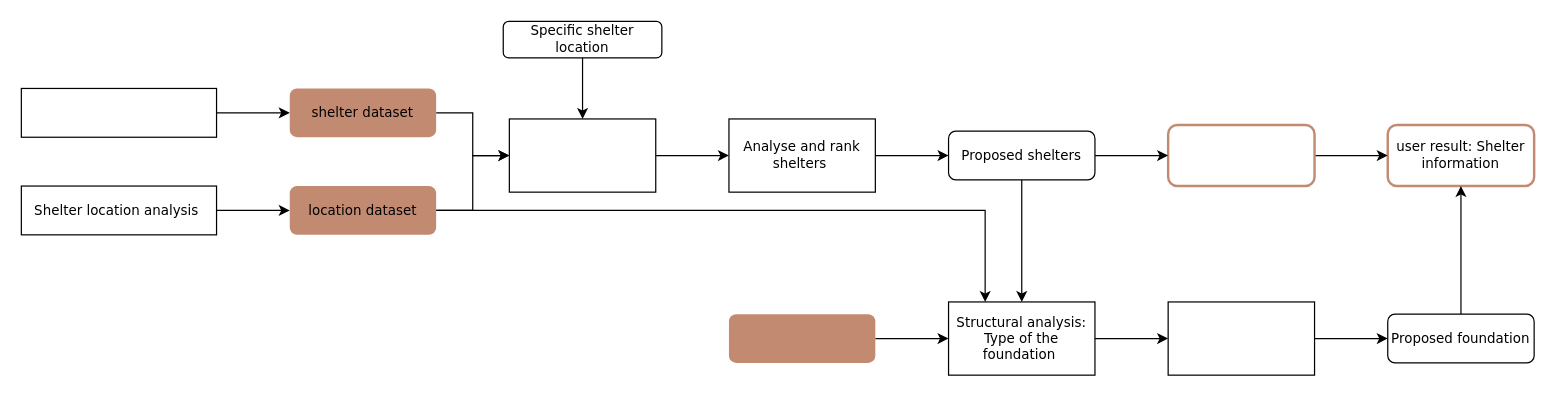
Image size: 1557x397. Some labels were removed from this diagram. Here are the shapes that lost their labels. From the top down, the box of each, then its label:
(20, 87, 217, 137): Shelter information collection
(508, 118, 656, 192): Filter Shelters according to minimum climate qualities
(1166, 123, 1315, 187): User result: Parallel coordinates graph
(728, 314, 875, 362): shelter foundation dataset
(1167, 301, 1315, 375): Structural analysis: Dimensions of the foundation
